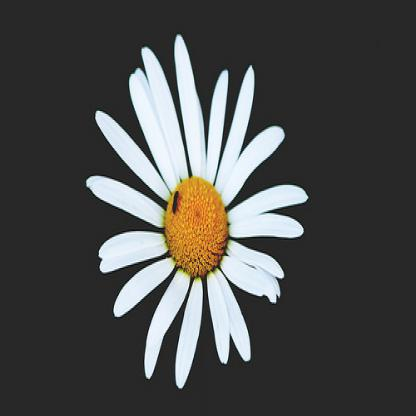ASTER: (68, 14, 322, 401)
